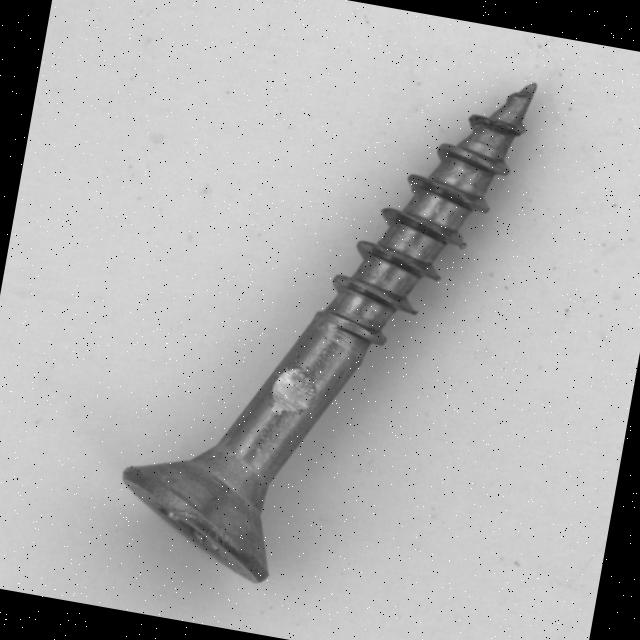scratch_neck: (265, 360, 320, 420)
